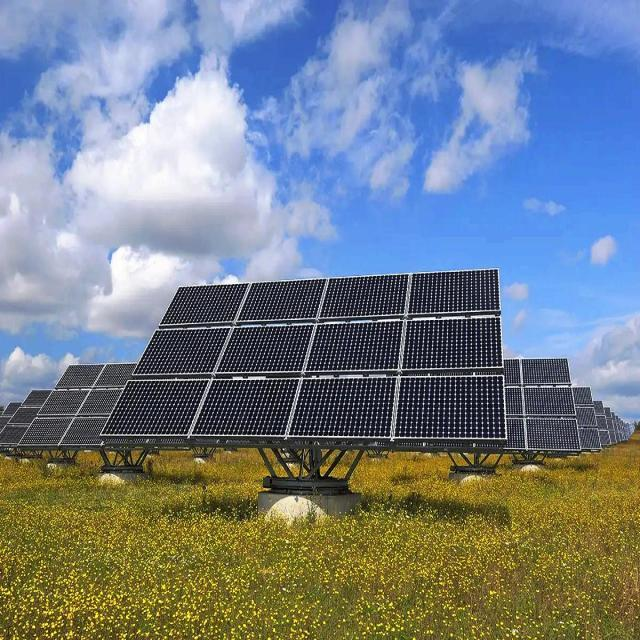no faulty: (286, 374, 404, 442), (190, 374, 302, 444), (396, 379, 510, 446), (100, 378, 212, 439), (302, 314, 411, 376), (215, 314, 314, 378), (401, 314, 504, 372), (406, 266, 504, 318), (126, 328, 229, 376), (232, 279, 329, 324), (316, 274, 409, 320), (160, 284, 249, 328), (523, 357, 571, 393), (526, 422, 582, 452), (524, 392, 578, 421)
